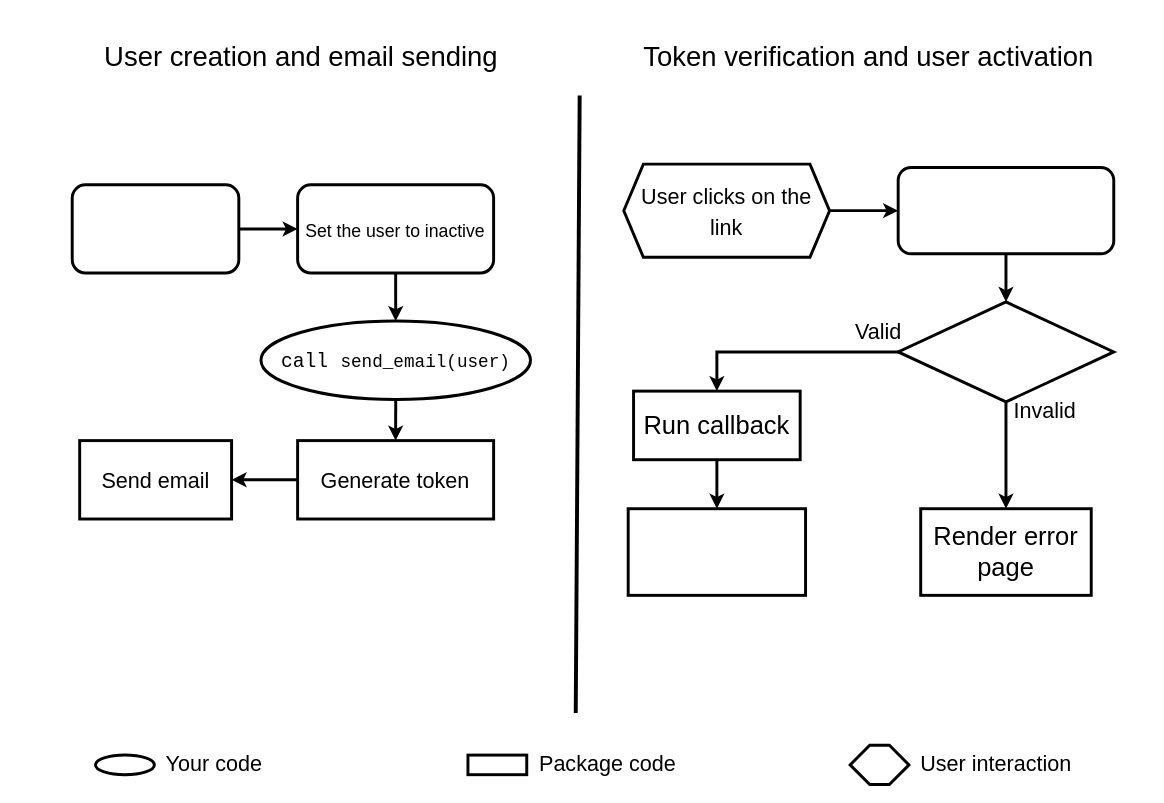
Image size: 1164x803. Some labels were removed from this diagram. Each missing label, with the box of its shape:
Create the account: (70, 183, 240, 274)
Forward the request with urls.py: (896, 166, 1115, 255)
Render success page: (626, 507, 807, 596)
Validate token: (896, 300, 1115, 403)
